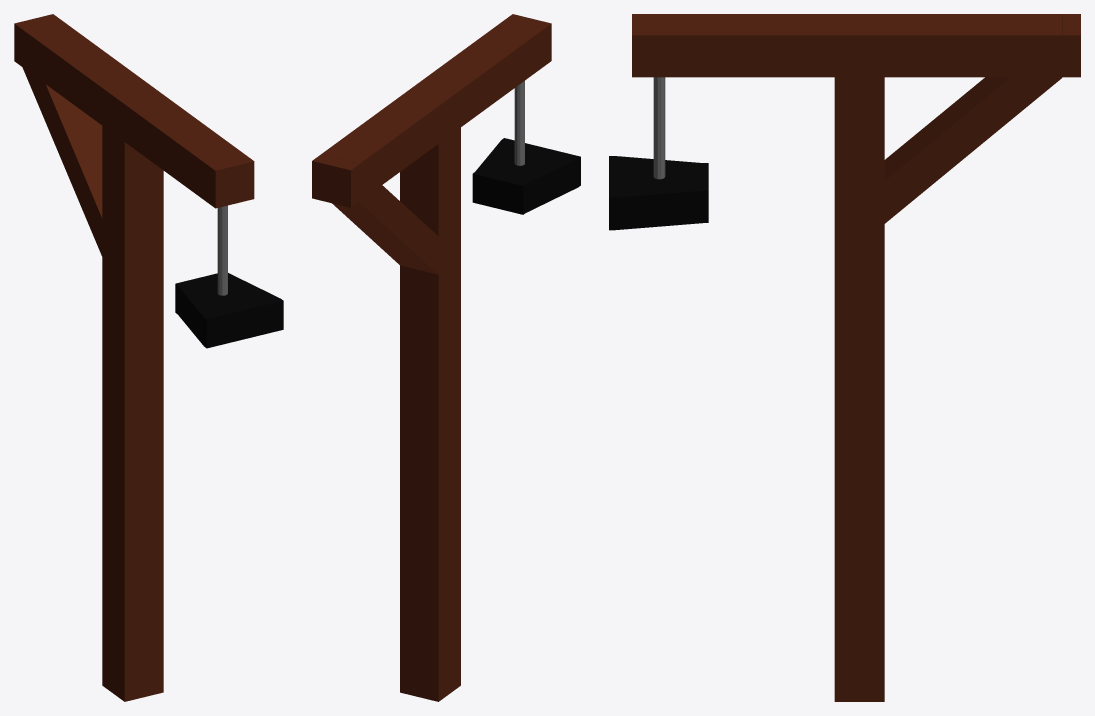
The model's file is Lampara.fbx.
3 renders of one model, left to right at view 1: azimuth 30°, elevation 25°; view 2: azimuth 150°, elevation 25°; view 3: azimuth 270°, elevation 25°, orthographic. The views are drawn at different scales.
Parts seen in each view (by area): view 1: Lampara.001; view 2: Lampara.001; view 3: Lampara.001.
Boxes of the visible parts, x1,y1,x2,y2 form: Lampara.001: [14, 14, 283, 701]; Lampara.001: [312, 14, 580, 701]; Lampara.001: [609, 14, 1080, 701].
Size of the model in its own units: 199 by 1476 by 946.
